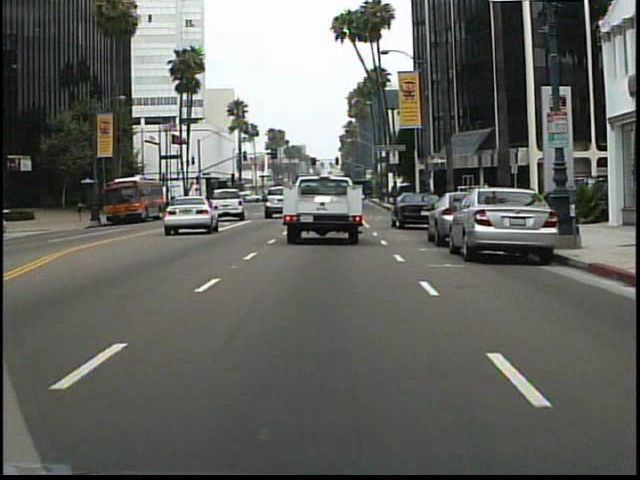person: (478, 179, 495, 220), (75, 195, 90, 230)
